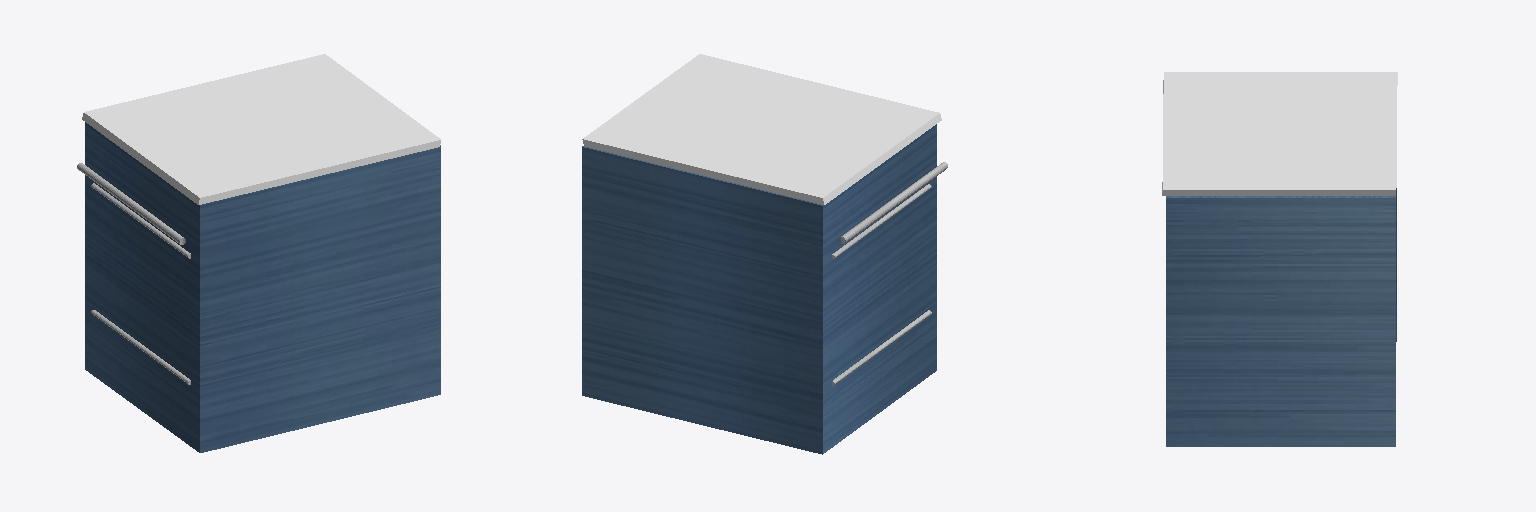
3 renders of one model, left to right at view 1: azimuth 30°, elevation 25°; view 2: azimuth 150°, elevation 25°; view 3: azimuth 270°, elevation 25°, orthographic.
Visible parts, largest first — view 1: pCube20, pasted__polySurface143 pasted__pasted__pasted__polySurface113 pa, pasted__pasted__polySurface122 pasted__pasted__pasted__polySurfa, pasted__polySurface122 pasted__pasted__polySurface113 group72; view 2: pCube20, pasted__polySurface143 pasted__pasted__pasted__polySurface113 pa, pasted__pasted__polySurface122 pasted__pasted__pasted__polySurfa, pasted__polySurface122 pasted__pasted__polySurface113 group72; view 3: pCube20, pasted__polySurface143 pasted__pasted__pasted__polySurface113 pa.
Part boxes in pixels (x1,y1,x2,y2): pCube20: (85,122,440,452); pasted__polySurface143 pasted__pasted__pasted__polySurface113 pa: (82,54,440,204); pasted__pasted__polySurface122 pasted__pasted__pasted__polySurfa: (91,183,190,384); pasted__polySurface122 pasted__pasted__polySurface113 group72: (77,163,185,244); pCube20: (582,124,936,454); pasted__polySurface143 pasted__pasted__pasted__polySurface113 pa: (582,54,941,204); pasted__pasted__polySurface122 pasted__pasted__pasted__polySurfa: (832,184,931,385); pasted__polySurface122 pasted__pasted__polySurface113 group72: (839,162,947,243); pCube20: (1166,188,1396,446); pasted__polySurface143 pasted__pasted__pasted__polySurface113 pa: (1162,72,1397,195).
Size of the model in its own units: 0.5953 by 0.5698 by 0.4726.
5 materials, 3 textured.